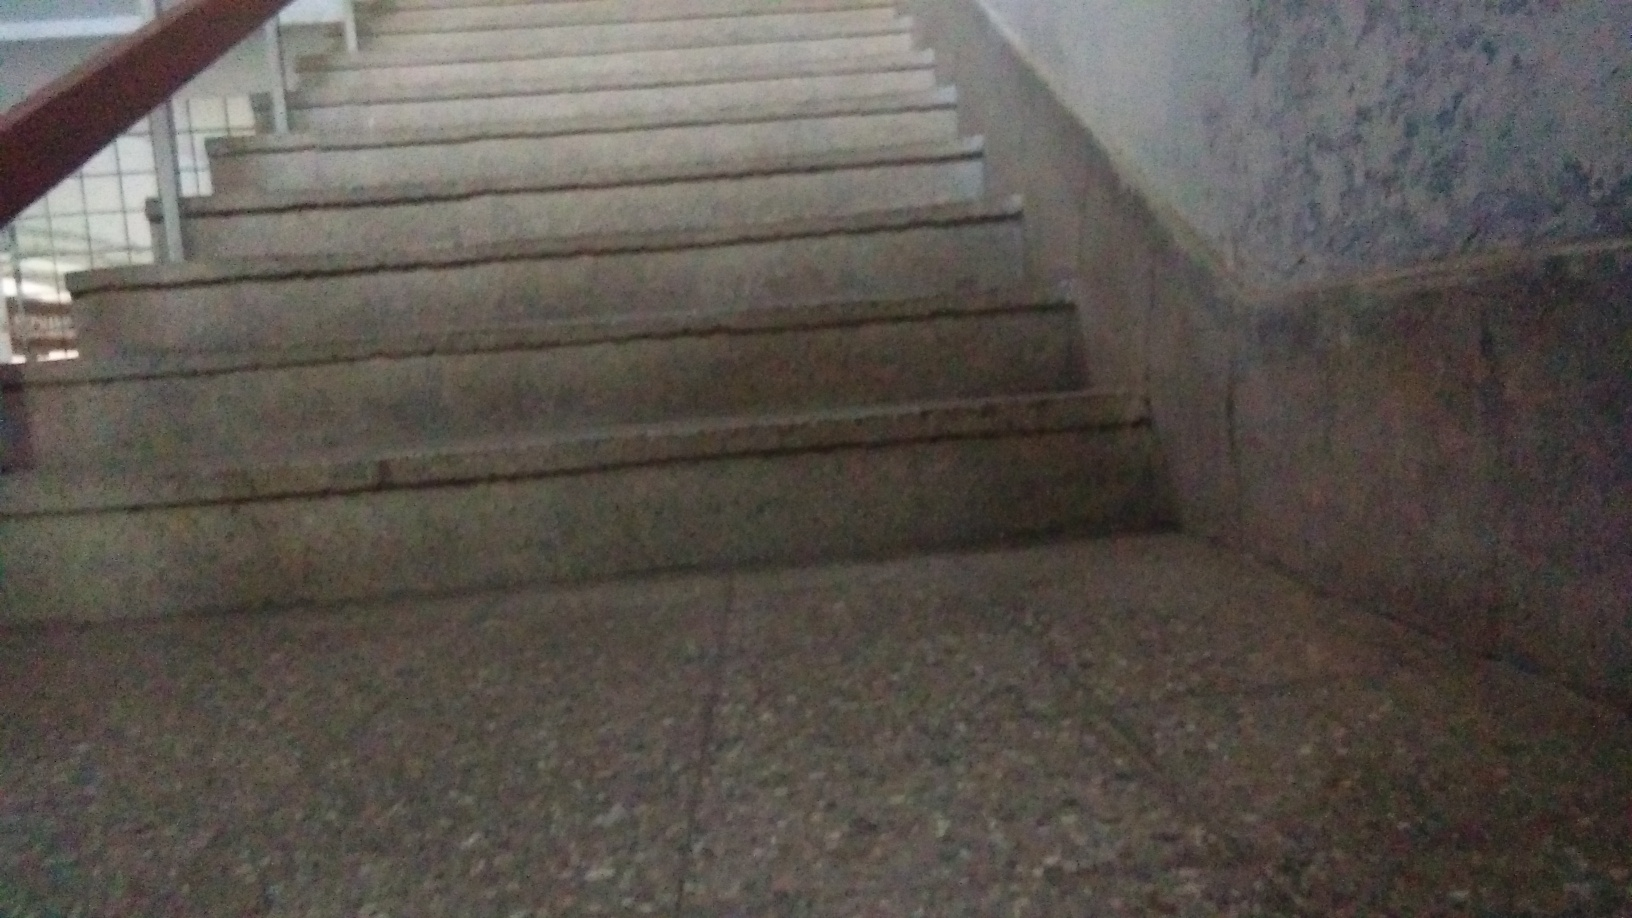stairs_up: (99, 31, 1144, 567)
